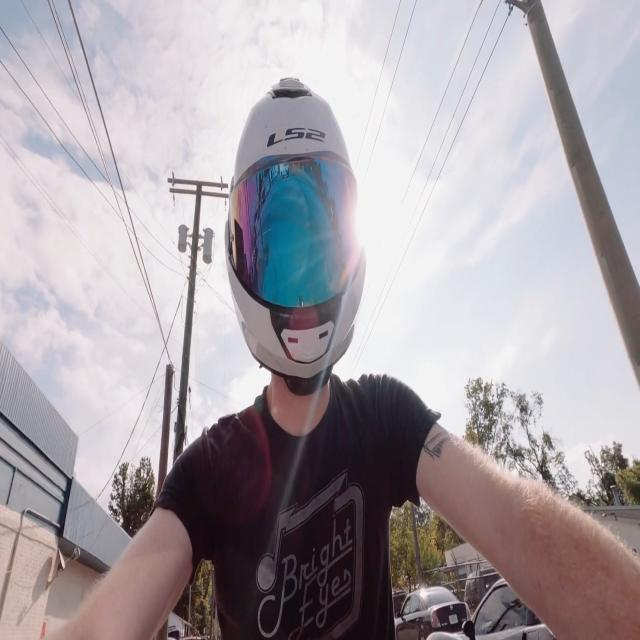Helmet_Wearer: (212, 82, 372, 410)
Person: (65, 83, 640, 640)
